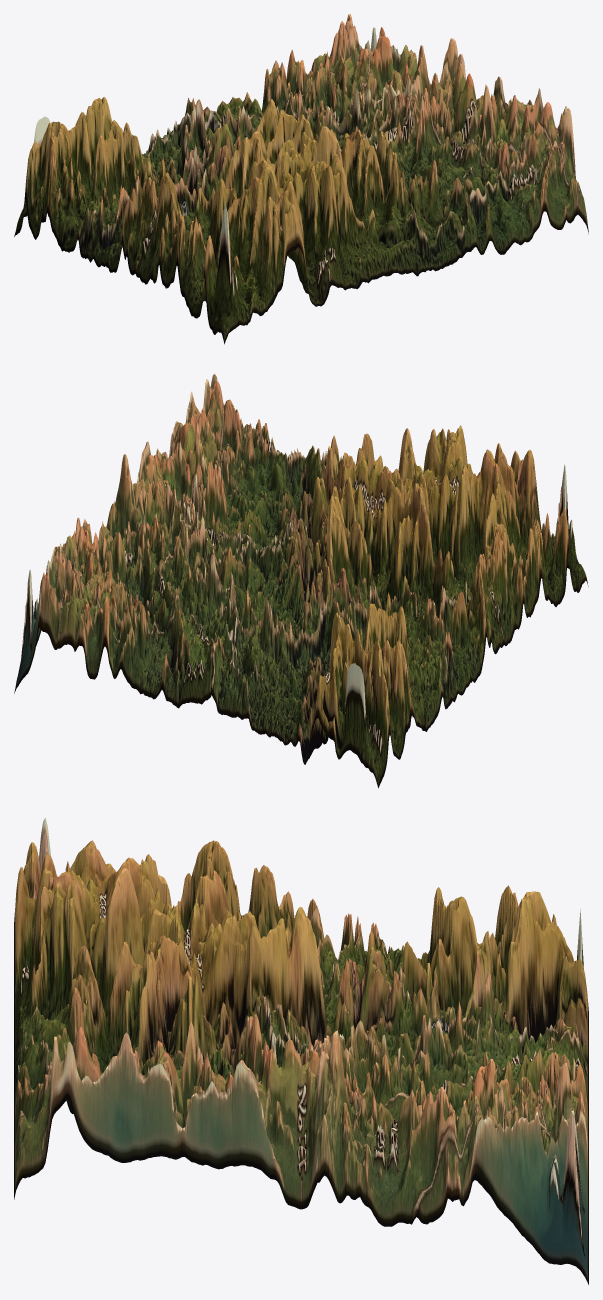
File: terrain-lod2.glb
3 views of the same model, one above another, from view 1: azimuth 30°, elevation 25°; view 2: azimuth 150°, elevation 25°; view 3: azimuth 270°, elevation 25° (orthographic). The views are drawn at different scales.
Visible parts, largest first — view 1: geometry_0; view 2: geometry_0; view 3: geometry_0.
Boxes of the visible parts, x1,y1,x2,y2 form: geometry_0: [14, 14, 588, 344]; geometry_0: [14, 373, 588, 788]; geometry_0: [14, 817, 588, 1284].
Bounding box in the file's own units: 2046 × 1080 × 2046.
1 material, 1 textured.
